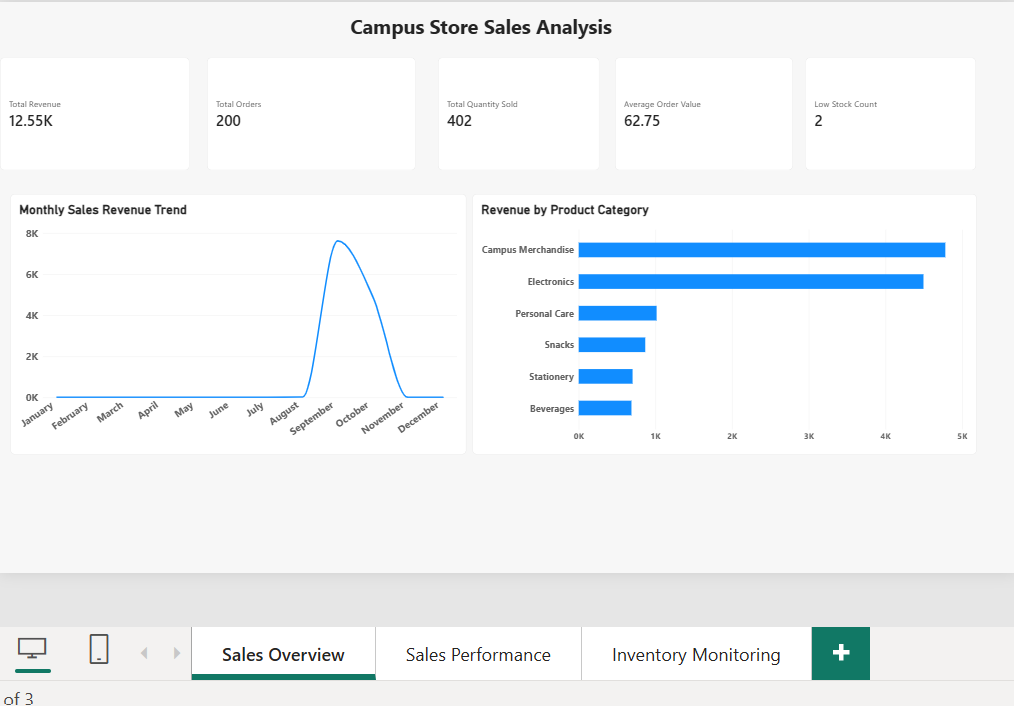

What the dashboard file says about the page in this screenshot:
{"tool":"powerbi","page":{"name":"Sales Overview","canvas":[1920,1080],"ordinal":0},"visuals":[{"type":"cardVisual","fields":{"Data":["public sales.Total Revenue"]},"box":[0,105.6,358.3,213.9],"z":0},{"type":"cardVisual","fields":{"Data":["public sales.Total Orders"]},"box":[391.7,105.6,394.4,213.9],"z":1000},{"type":"cardVisual","fields":{"Data":["public sales.Total Quantity Sold"]},"box":[827.8,105.6,305.6,213.9],"z":2000},{"type":"cardVisual","fields":{"Data":["public sales.Average Order Value"]},"box":[1161.1,105.6,336.1,213.9],"z":3000},{"type":"cardVisual","fields":{"Data":["public sales.Low Stock Count"]},"box":[1522.2,105.6,322.2,213.9],"z":4000},{"type":"lineChart","title":"Monthly Sales Revenue Trend","fields":{"Category":["public sales.sale_date.Variation.Date Hierarchy.Month","public sales.sale_date.Variation.Date Hierarchy.Day"],"Y":["public sales.Total Revenue"]},"box":[19.4,363.9,861.1,491.7],"z":5000},{"type":"clusteredBarChart","title":"Revenue by Product Category","fields":{"Category":["public categories.name"],"Y":["public sales.Total Revenue"]},"box":[891.7,363.9,952.8,491.7],"z":6000},{"type":"textbox","box":[19.4,19.4,1777.8,86.1],"z":6001}]}

Visuals, with their boxes on the page's 1920x1080 design canvas (x1, y1, x2, y2). These are canvas units, not pixel positions in the 1014x706 screenshot, which may show the page scaled, cropped or inside an application window:
cardVisual - public sales.Total Revenue: Rect(0, 106, 358, 320)
cardVisual - public sales.Total Orders: Rect(392, 106, 786, 320)
cardVisual - public sales.Total Quantity Sold: Rect(828, 106, 1133, 320)
cardVisual - public sales.Average Order Value: Rect(1161, 106, 1497, 320)
cardVisual - public sales.Low Stock Count: Rect(1522, 106, 1844, 320)
"Monthly Sales Revenue Trend" lineChart: Rect(19, 364, 880, 856)
"Revenue by Product Category" clusteredBarChart: Rect(892, 364, 1844, 856)
textbox: Rect(19, 19, 1797, 106)
